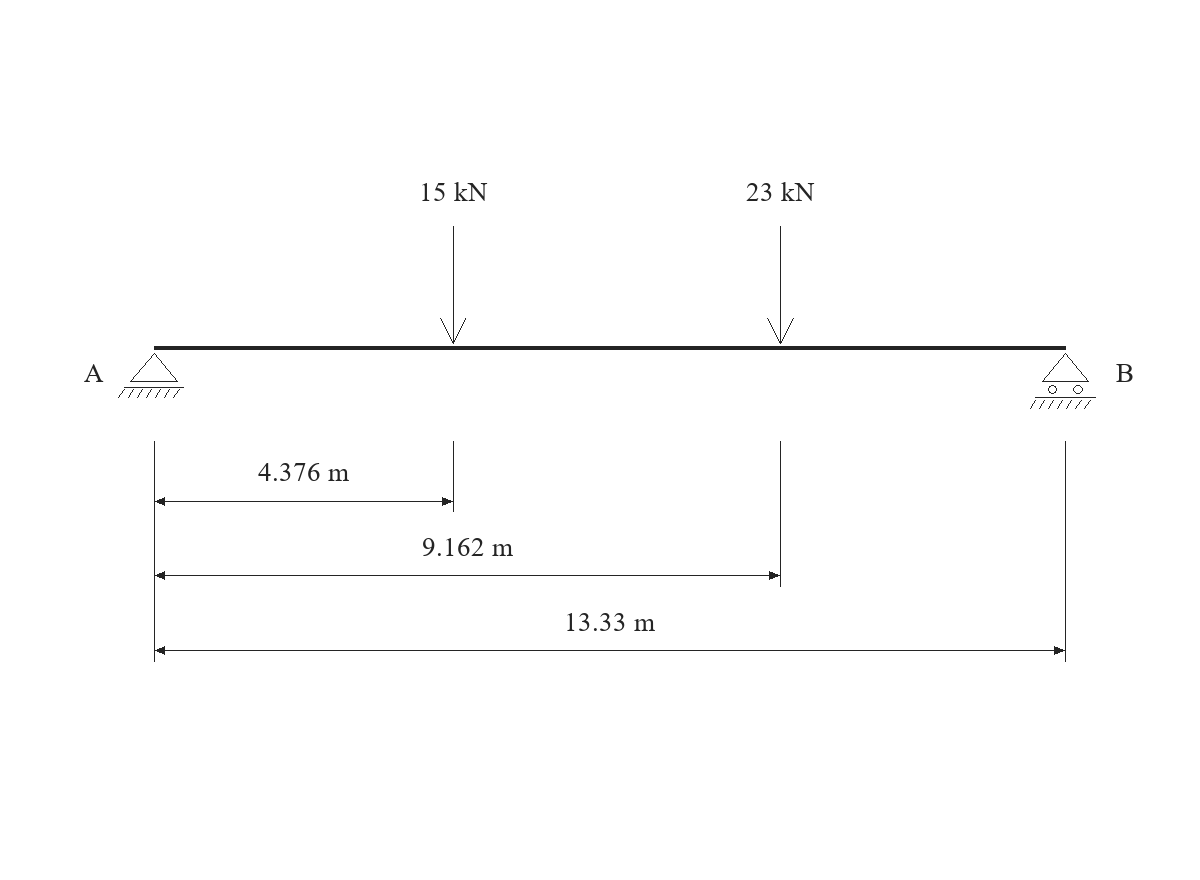pin_support: (118, 353, 184, 398)
point_load: (767, 226, 794, 344), (440, 226, 466, 344)
roller_support: (1030, 353, 1096, 409)
